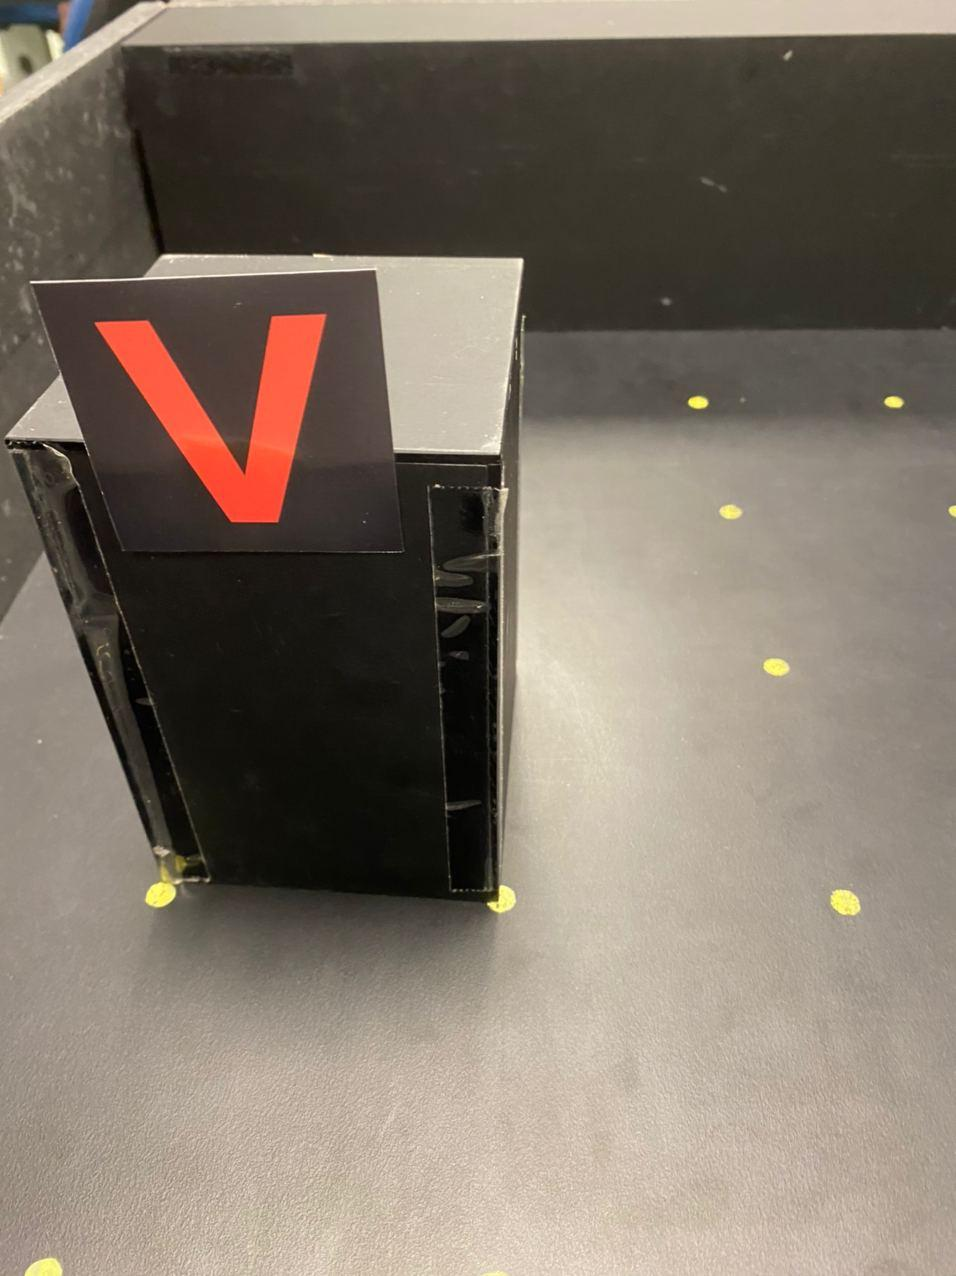v: (81, 301, 344, 542)
